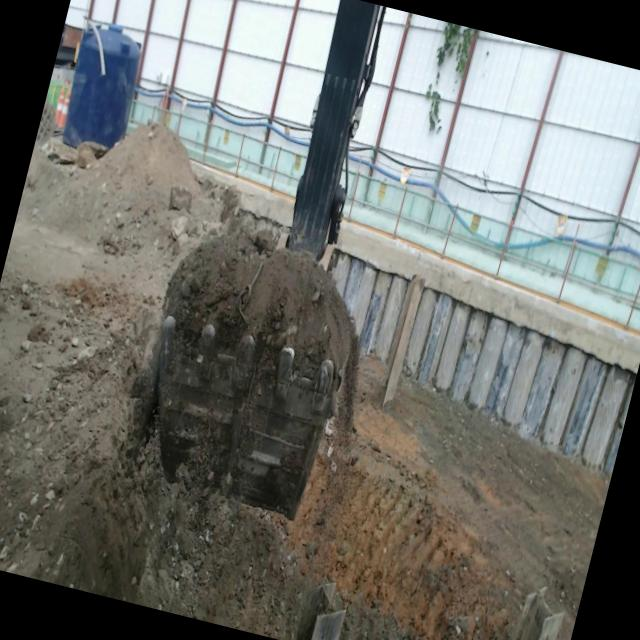cement: (338, 223, 640, 374), (195, 164, 292, 225)
red-sand: (0, 123, 608, 640)
